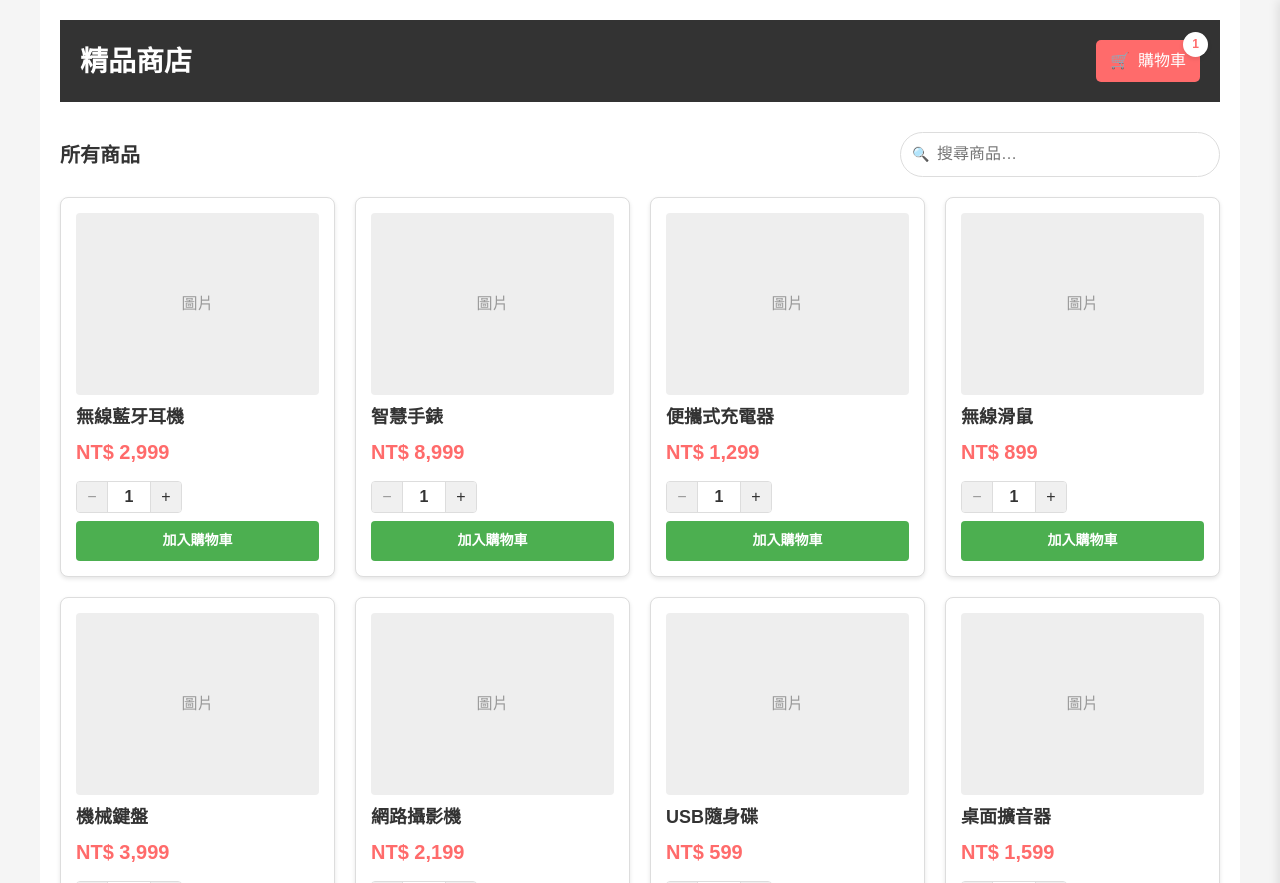
Shop › asks for confirmation before removing an item and respects cancel
Check: the heading "智慧手錶" is shown, box [371,407,443,427]
Click the button with aria-label "購物車，共" at (1148, 61), box [1096,40,1200,82]
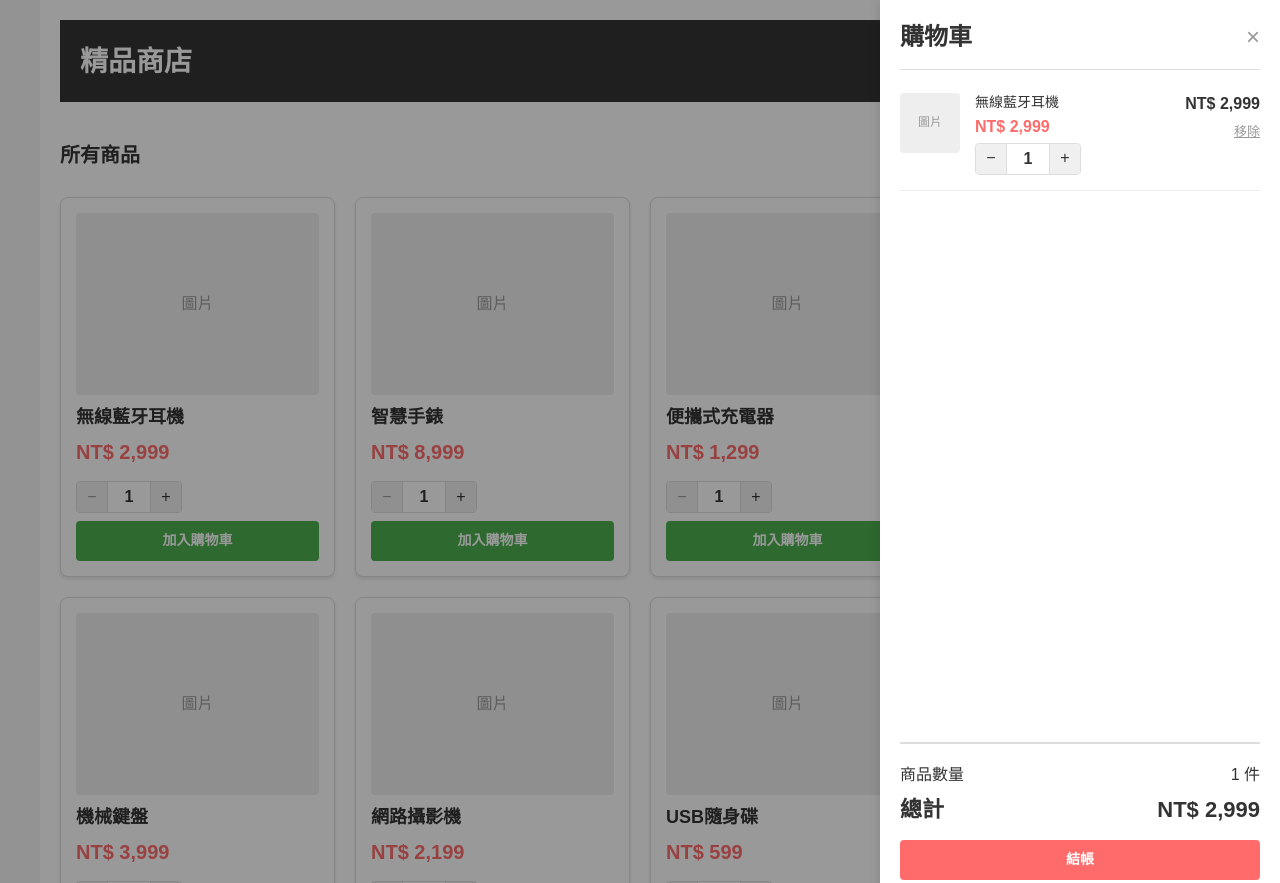
Click the button with aria-label "移除 無線藍牙耳機" at (1247, 132), box [1234,123,1260,141]
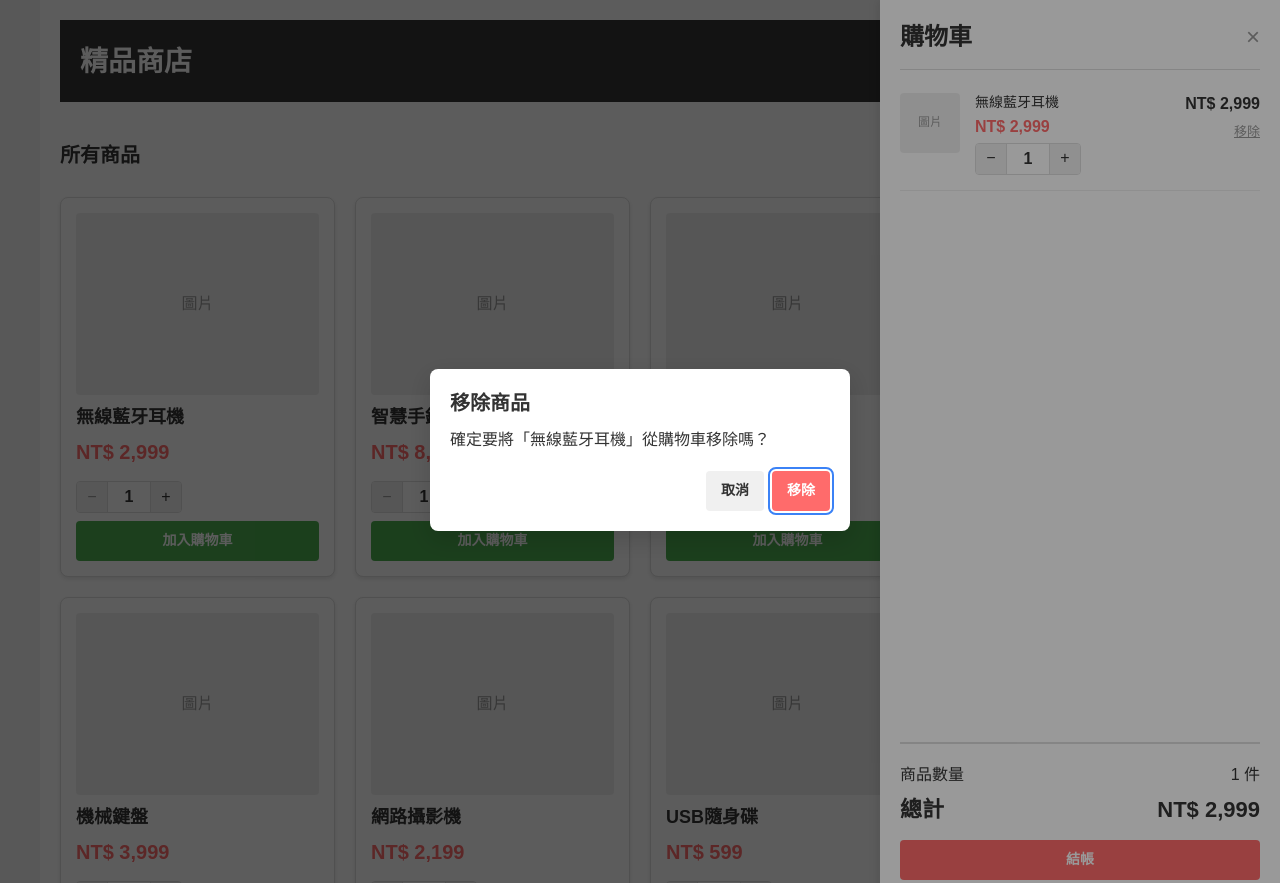
Click the button "取消" at (735, 491), box [706,471,764,511]
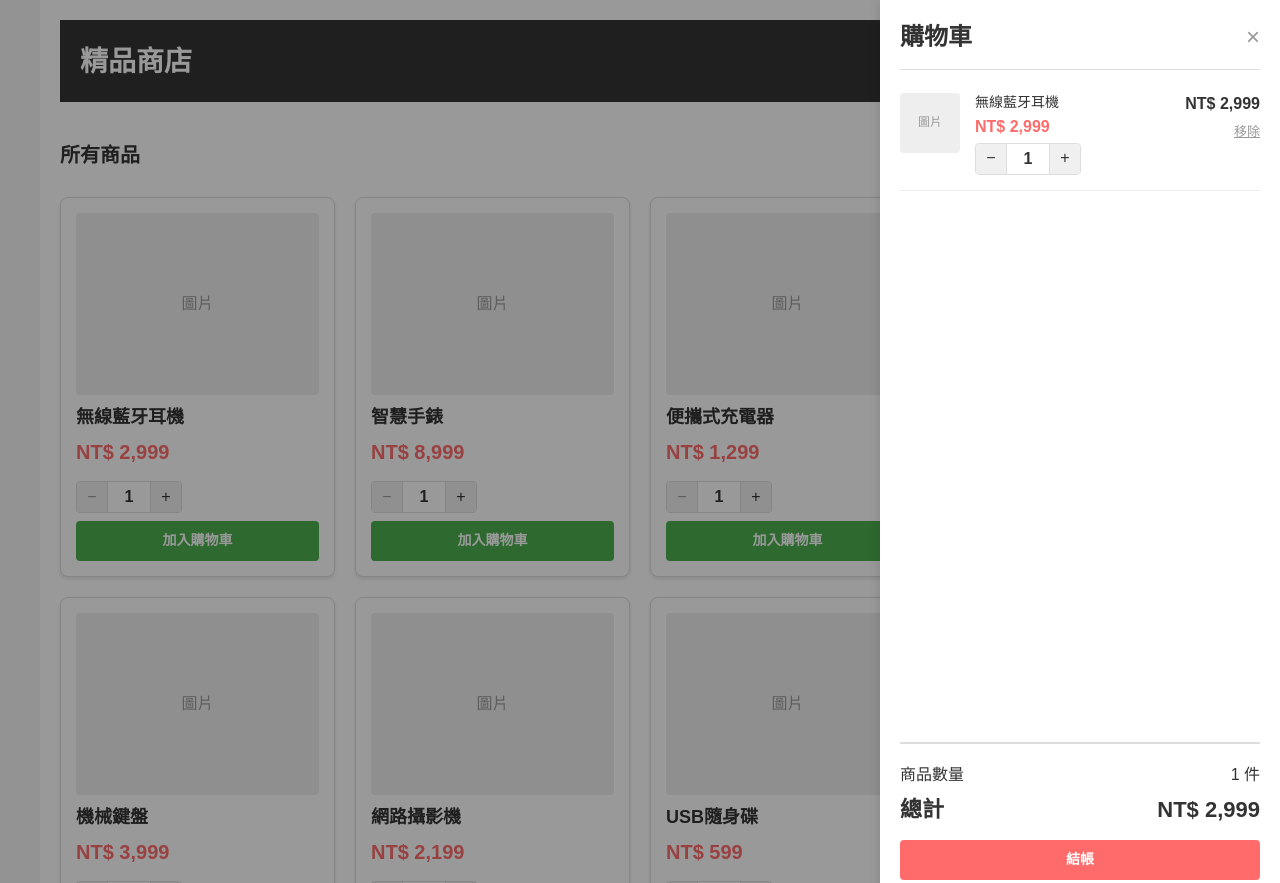
Click the button with aria-label "移除 無線藍牙耳機" at (1247, 132), box [1234,123,1260,141]
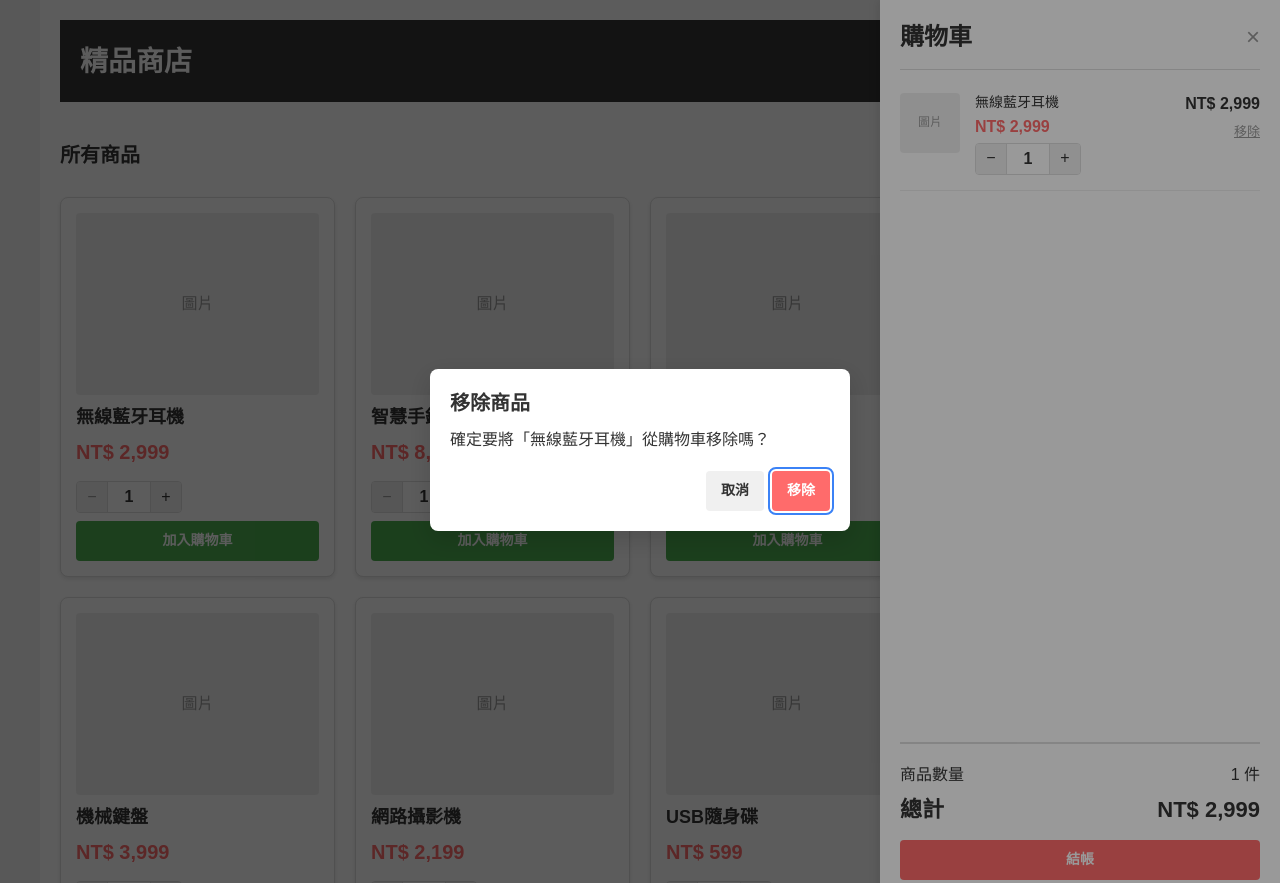
Click the button "移除" at (801, 491), box [772,471,830,511]
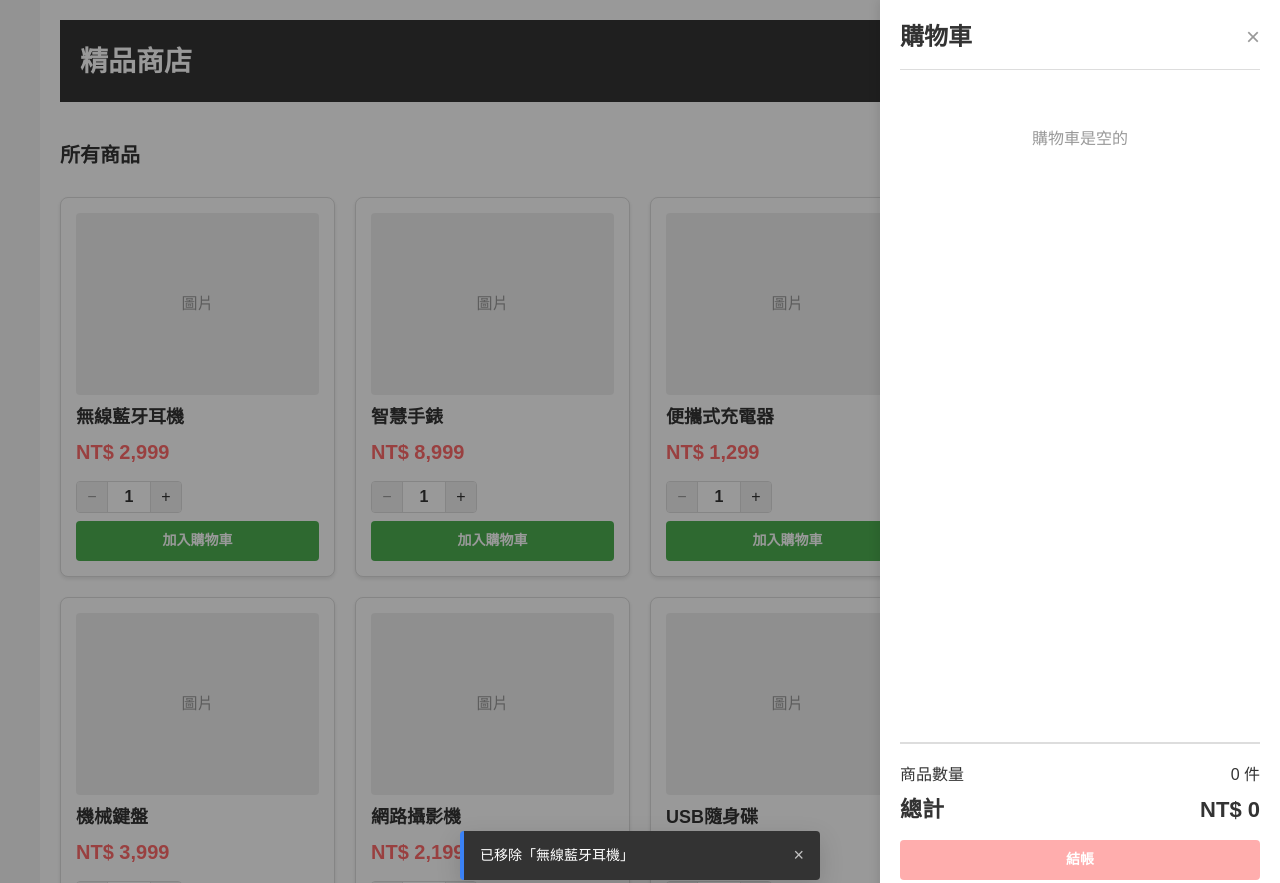
Check: the text "購物車是空的" is shown, box [1032,130,1128,147]
